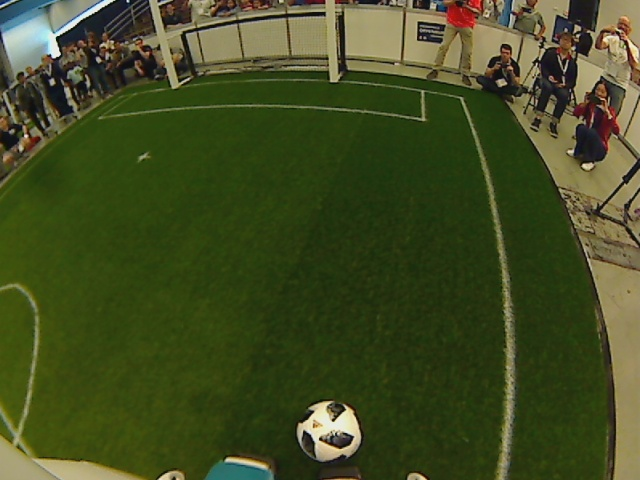ball: (293, 399, 363, 464)
